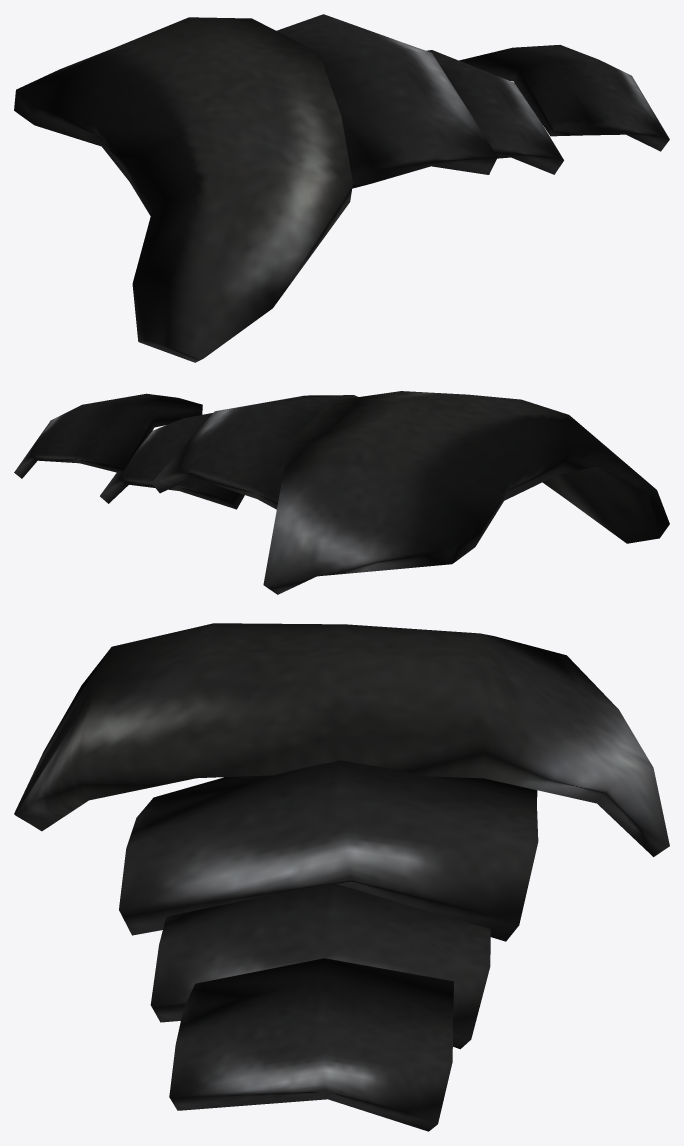
File: CloakHandDarkLord.fbx
3 views of the same model, one above another, from view 1: azimuth 30°, elevation 25°; view 2: azimuth 150°, elevation 25°; view 3: azimuth 270°, elevation 25° (orthographic). The views are drawn at different scales.
Visible parts, largest first — view 1: Riqaz.002; view 2: Riqaz.002; view 3: Riqaz.002.
Boxes of the visible parts, x1=… form: Riqaz.002: x1=14, y1=14, x2=669, y2=362; Riqaz.002: x1=14, y1=391, x2=669, y2=594; Riqaz.002: x1=14, y1=623, x2=669, y2=1131.
Size of the model in its own units: 43.86 by 13.92 by 30.56.
1 material, 1 textured.
